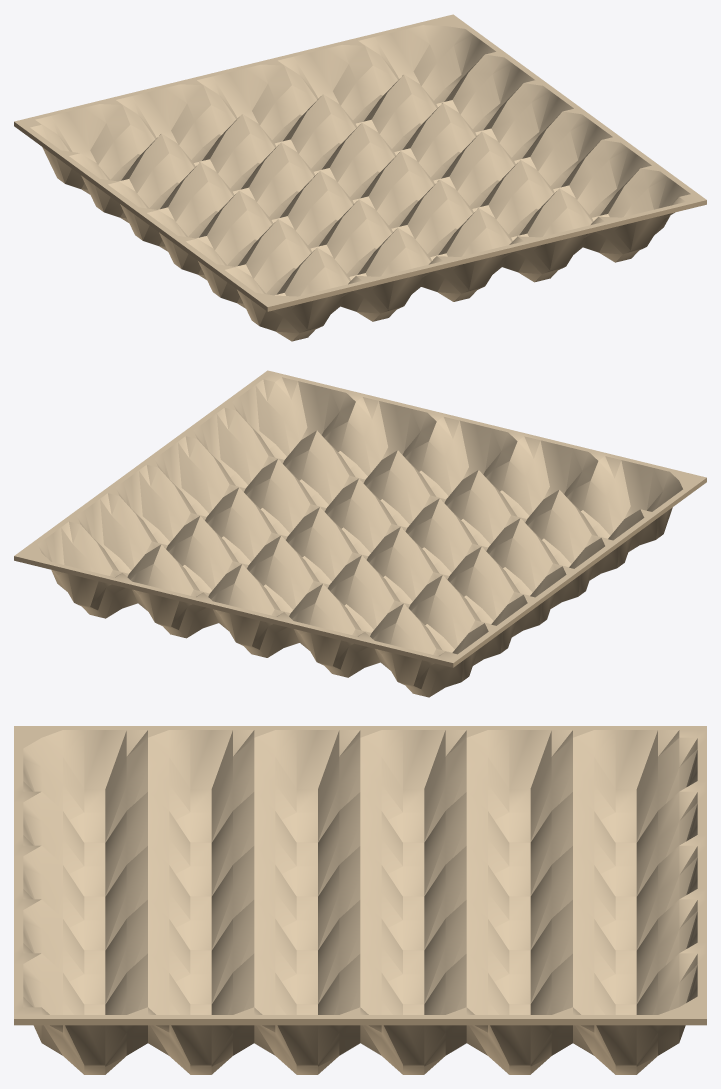
The model's file is fresh-produce-and-groceries-egg-tray-thirty-bc9a8dad__24458.glb.
The picture shows the model from 3 angles, top to bottom: view 1: azimuth 30°, elevation 25°; view 2: azimuth 150°, elevation 25°; view 3: azimuth 270°, elevation 25°; orthographic projection. The views are drawn at different scales.
Parts seen in each view (by area): view 1: egg-tray-thirty; view 2: egg-tray-thirty; view 3: egg-tray-thirty.
Part boxes in pixels (left/top/right/bottom): egg-tray-thirty: left=14, top=14, right=706, bottom=341; egg-tray-thirty: left=14, top=370, right=706, bottom=697; egg-tray-thirty: left=14, top=726, right=706, bottom=1074.
Size of the model in its own units: 0.3 by 0.0426 by 0.3.
